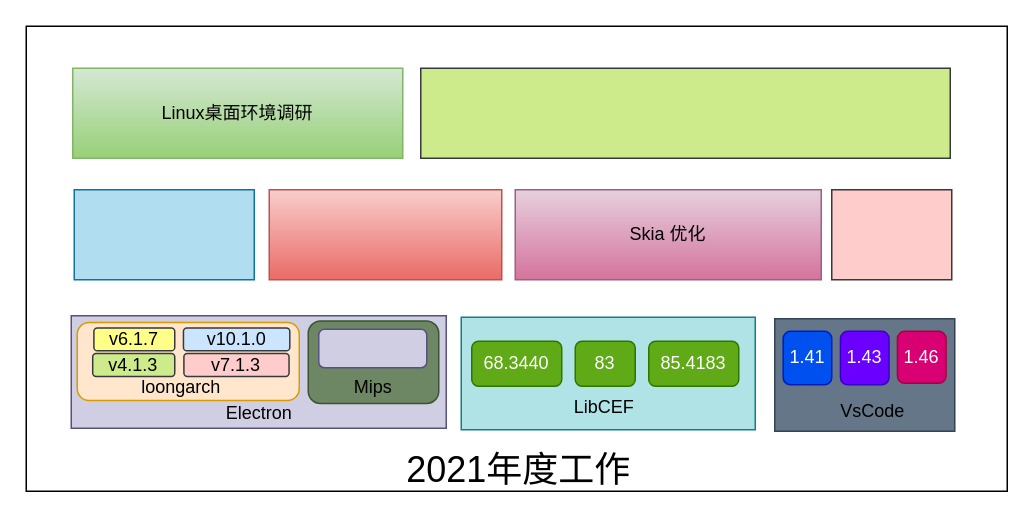
Some shapes in this 1034 by 518 pixel diagram are drawn without their labels. Each missing label, with the centre of its shape:
"Linux应用二进制兼容" goes at point 684,112.
"p7zip中文乱码" goes at point 891,234.
"V8.1.5" goes at point 372,348.
"WPS Qt优化" goes at point 385,234.
"神通数据库优化" goes at point 163,234.
